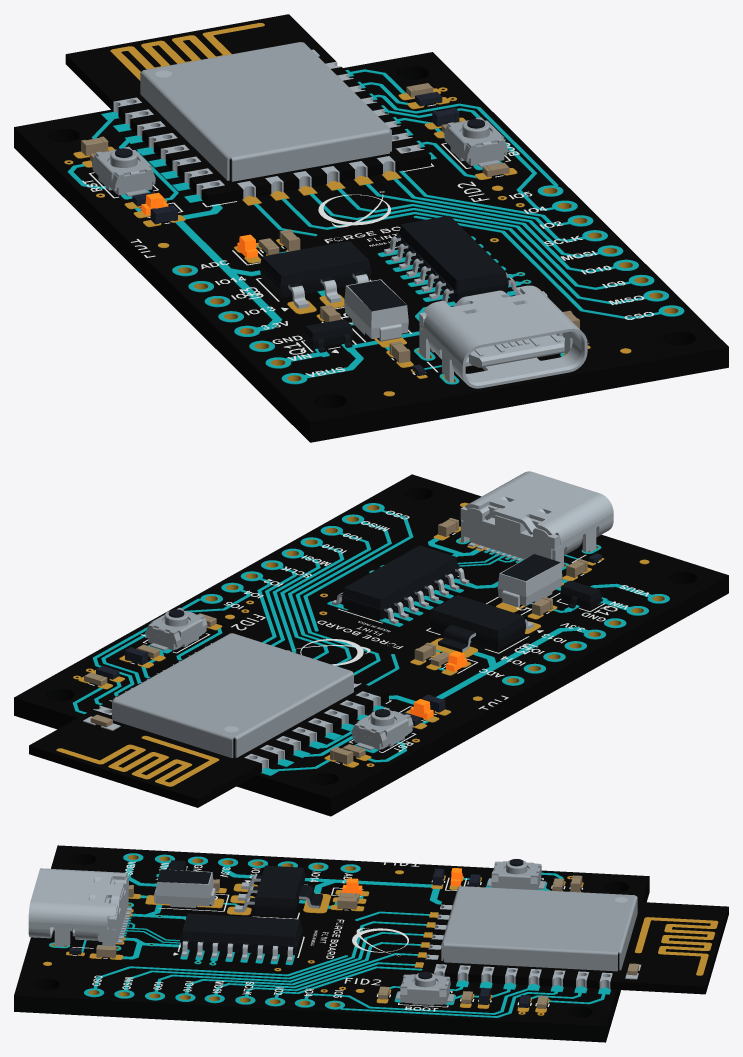
The model's file is flint.glb.
3 renders of one model, top to bottom at view 1: azimuth 30°, elevation 25°; view 2: azimuth 150°, elevation 25°; view 3: azimuth 270°, elevation 25°, orthographic. The views are drawn at different scales.
Visible parts, largest first — view 1: Flint_PCB_final; view 2: Flint_PCB_final; view 3: Flint_PCB_final.
Boxes of the visible parts, x1,y1,x2,y2 form: Flint_PCB_final: [14, 14, 728, 442]; Flint_PCB_final: [14, 471, 728, 816]; Flint_PCB_final: [14, 845, 728, 1042].
Bounding box in the file's own units: 0.0359 × 0.00498 × 0.0599.
